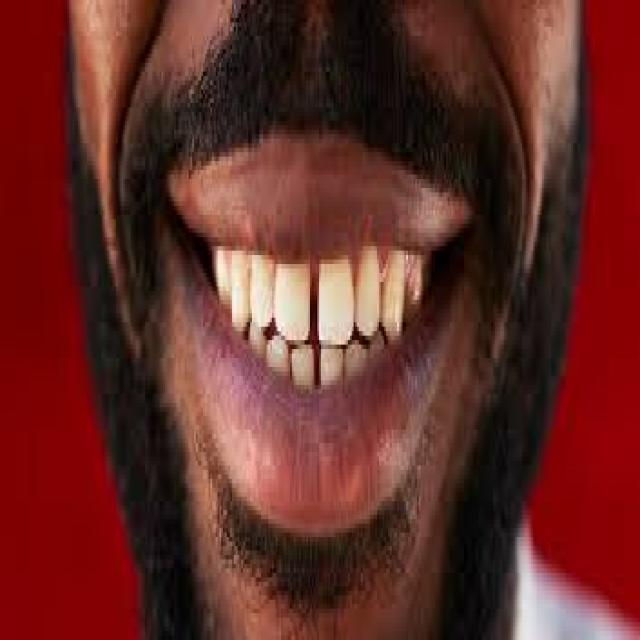tooth: (317, 268, 357, 344), (274, 260, 308, 340), (355, 242, 377, 336), (252, 255, 277, 331), (386, 260, 408, 336), (290, 340, 316, 398), (230, 250, 248, 326), (321, 344, 341, 390), (216, 247, 227, 296), (270, 345, 287, 376), (346, 344, 363, 372), (250, 322, 263, 354)
